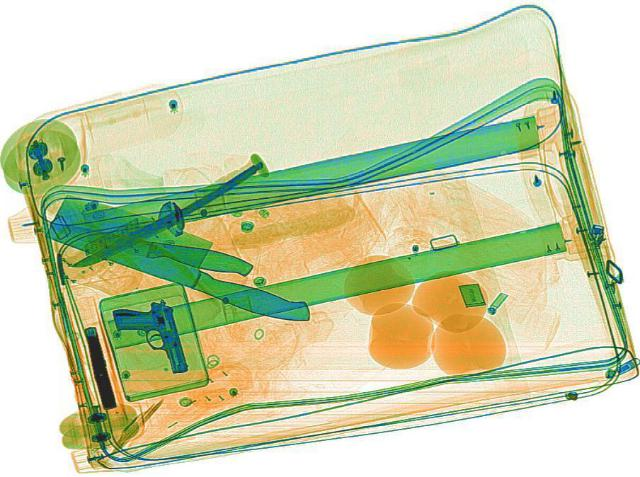Gun: (109, 297, 189, 380), (77, 324, 119, 410)
Knife: (32, 189, 336, 326), (64, 161, 268, 272), (38, 210, 254, 279)
